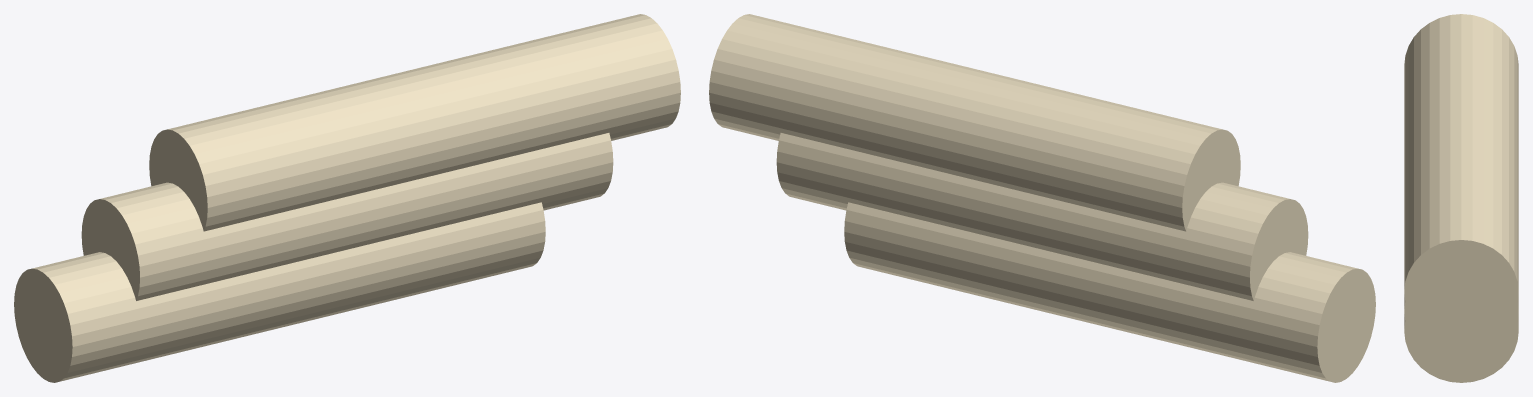
The model's file is prop_bottom_scroll_bundle.glb.
3 renders of one model, left to right at view 1: azimuth 30°, elevation 25°; view 2: azimuth 150°, elevation 25°; view 3: azimuth 270°, elevation 25°, orthographic. The views are drawn at different scales.
Parts seen in each view (by area): view 1: prop_bottom_scroll_bundle_rolled_parchment_3, prop_bottom_scroll_bundle_rolled_parchment_1, prop_bottom_scroll_bundle_rolled_parchment_2; view 2: prop_bottom_scroll_bundle_rolled_parchment_3, prop_bottom_scroll_bundle_rolled_parchment_1, prop_bottom_scroll_bundle_rolled_parchment_2; view 3: prop_bottom_scroll_bundle_rolled_parchment_3, prop_bottom_scroll_bundle_rolled_parchment_2, prop_bottom_scroll_bundle_rolled_parchment_1.
Part boxes in pixels (x1=…): prop_bottom_scroll_bundle_rolled_parchment_3: x1=149, y1=14, x2=680, y2=231; prop_bottom_scroll_bundle_rolled_parchment_1: x1=14, y1=202, x2=545, y2=382; prop_bottom_scroll_bundle_rolled_parchment_2: x1=81, y1=133, x2=613, y2=300; prop_bottom_scroll_bundle_rolled_parchment_3: x1=709, y1=14, x2=1240, y2=231; prop_bottom_scroll_bundle_rolled_parchment_1: x1=844, y1=202, x2=1375, y2=382; prop_bottom_scroll_bundle_rolled_parchment_2: x1=776, y1=133, x2=1308, y2=300; prop_bottom_scroll_bundle_rolled_parchment_3: x1=1404, y1=14, x2=1518, y2=343; prop_bottom_scroll_bundle_rolled_parchment_2: x1=1404, y1=294, x2=1518, y2=363; prop_bottom_scroll_bundle_rolled_parchment_1: x1=1404, y1=314, x2=1518, y2=382.
Bounding box in the file's own units: 0.4752 × 0.1584 × 0.0792.
